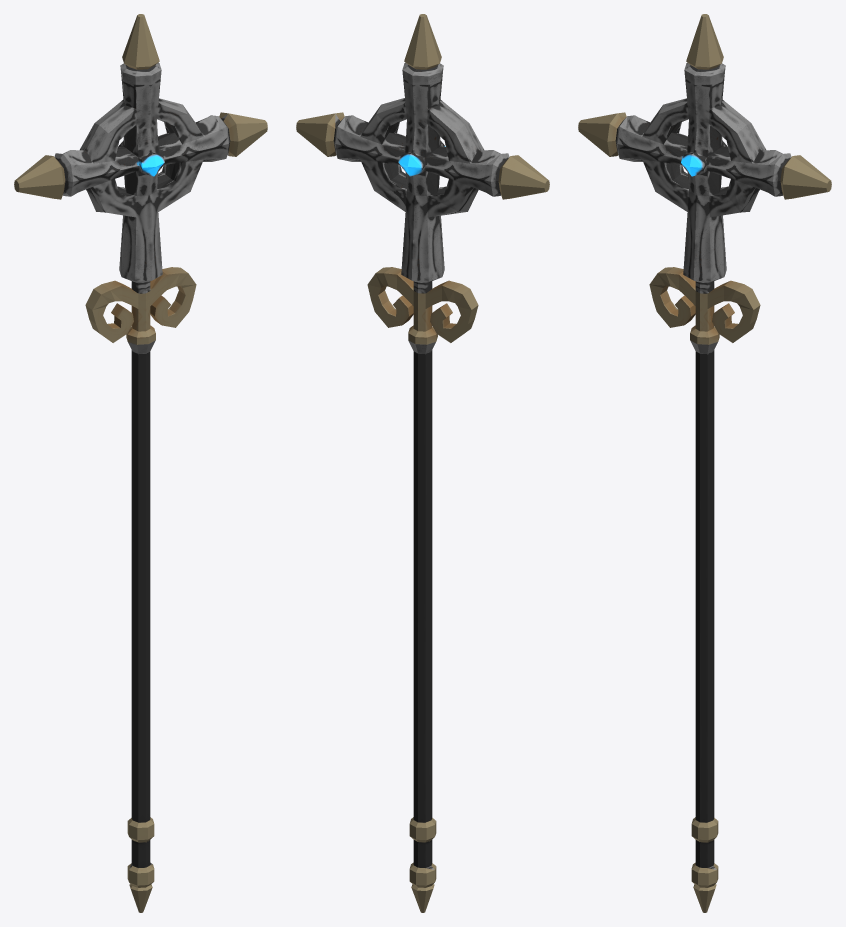
Rendered from Silver Cross Wand.fbx.
3 renders of one model, left to right at view 1: azimuth 30°, elevation 25°; view 2: azimuth 150°, elevation 25°; view 3: azimuth 330°, elevation 25°, orthographic.
Visible parts, largest first — view 1: Silver_Cross_Wand; view 2: Silver_Cross_Wand; view 3: Silver_Cross_Wand.
Boxes of the visible parts, bbox=[...] form: Silver_Cross_Wand: bbox=[14, 14, 267, 912]; Silver_Cross_Wand: bbox=[296, 14, 549, 912]; Silver_Cross_Wand: bbox=[578, 14, 831, 912].
Bounding box in the file's own units: 103 × 355 × 21.99.
